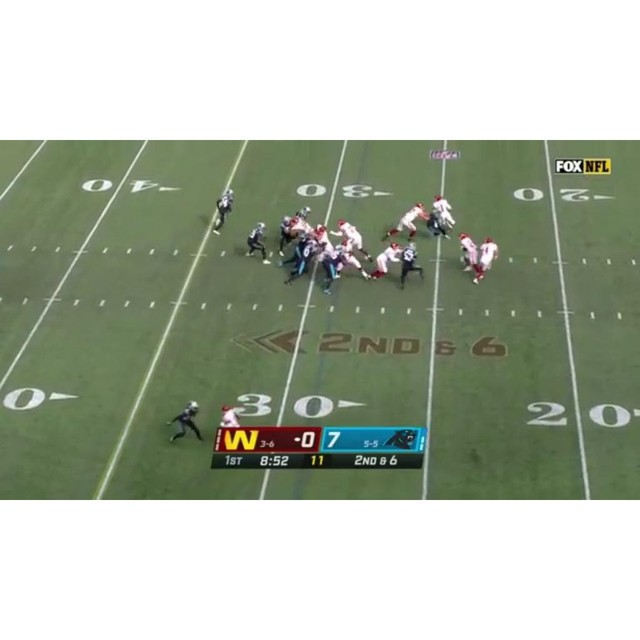american-football-player: (284, 237, 319, 288), (385, 202, 427, 242), (166, 400, 204, 442), (337, 219, 373, 262), (318, 245, 346, 296), (367, 242, 402, 282), (474, 235, 500, 285), (399, 241, 425, 290), (212, 189, 235, 236), (246, 222, 270, 264), (432, 194, 455, 237), (458, 232, 479, 274), (277, 214, 294, 257), (220, 404, 241, 428)
